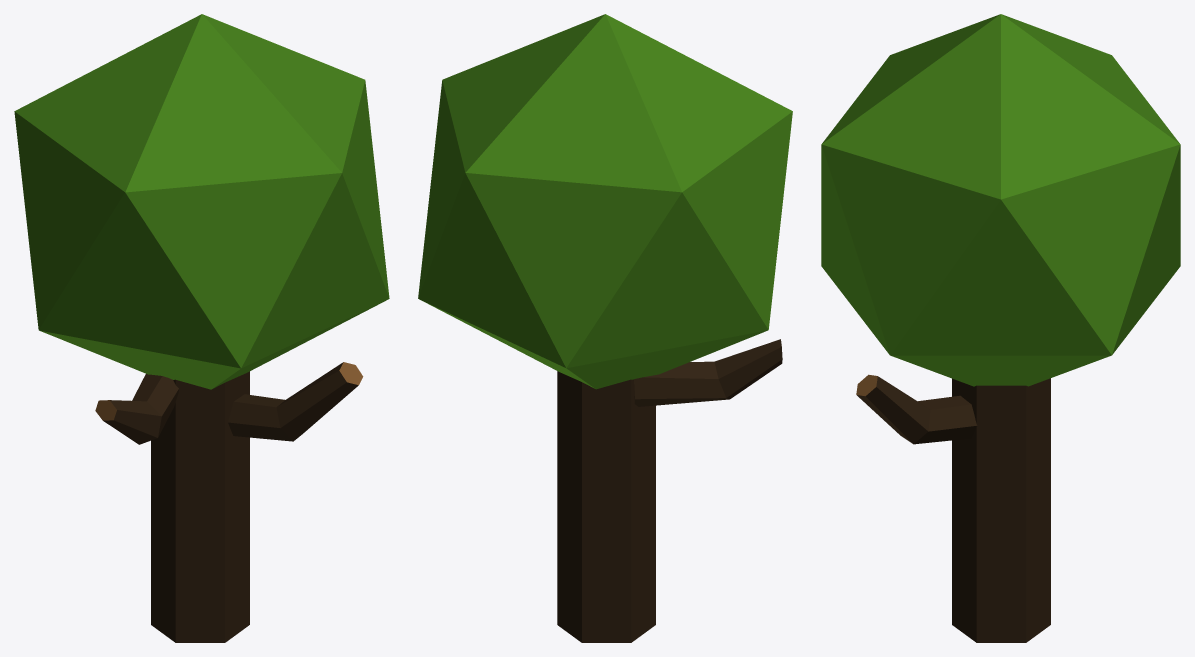
File: Boum_2.fbx
The picture shows the model from 3 angles, left to right: view 1: azimuth 30°, elevation 25°; view 2: azimuth 150°, elevation 25°; view 3: azimuth 270°, elevation 25°; orthographic projection.
Parts seen in each view (by area): view 1: Bom_1; view 2: Bom_1; view 3: Bom_1.
Part boxes in pixels (bbox=[...]): Bom_1: bbox=[14, 14, 389, 642]; Bom_1: bbox=[418, 14, 792, 642]; Bom_1: bbox=[821, 14, 1180, 642].
Bounding box in the file's own units: 0.6214 × 1.11 × 0.591.
